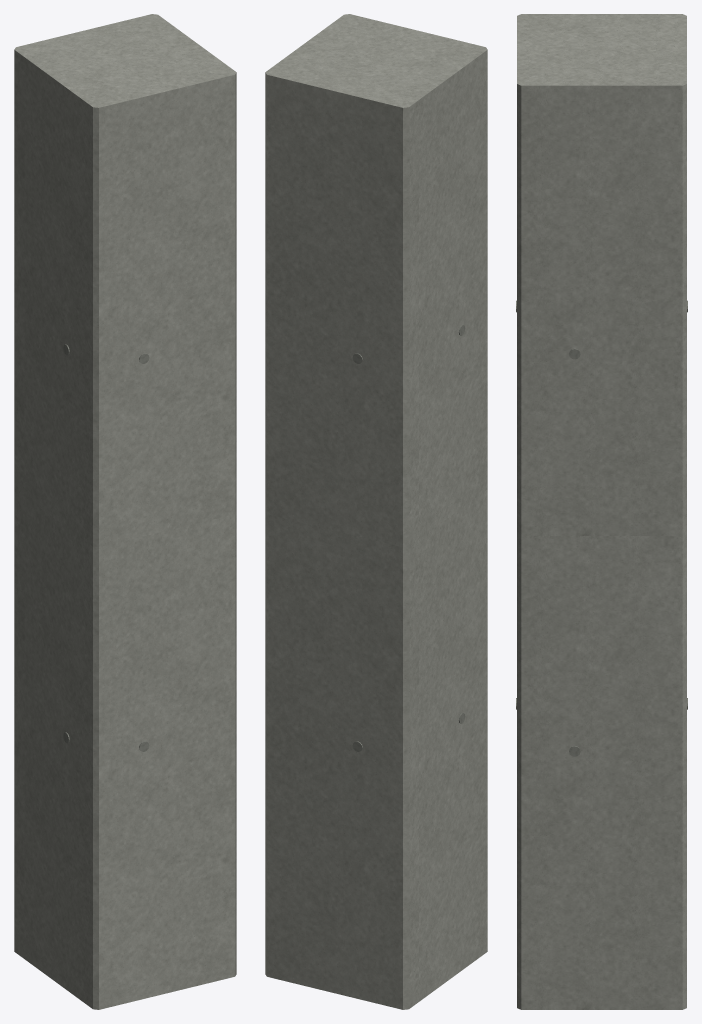
File: PZ_Column_0500_3m.glb
3 views of the same model, side by side, from view 1: azimuth 30°, elevation 25°; view 2: azimuth 150°, elevation 25°; view 3: azimuth 270°, elevation 25° (orthographic). The views are drawn at different scales.
Parts seen in each view (by area): view 1: RENDER_PZ_Column_0500_3m__RENDER_Concrete_Column_Core__000; view 2: RENDER_PZ_Column_0500_3m__RENDER_Concrete_Column_Core__000; view 3: RENDER_PZ_Column_0500_3m__RENDER_Concrete_Column_Core__000.
Boxes of the visible parts, left/top/right/bottom form: RENDER_PZ_Column_0500_3m__RENDER_Concrete_Column_Core__000: left=14, top=14, right=236, bottom=1009; RENDER_PZ_Column_0500_3m__RENDER_Concrete_Column_Core__000: left=265, top=14, right=487, bottom=1009; RENDER_PZ_Column_0500_3m__RENDER_Concrete_Column_Core__000: left=517, top=14, right=686, bottom=1009.
Size of the model in its own units: 0.506 by 3 by 0.506.
2 materials, 2 textured.
